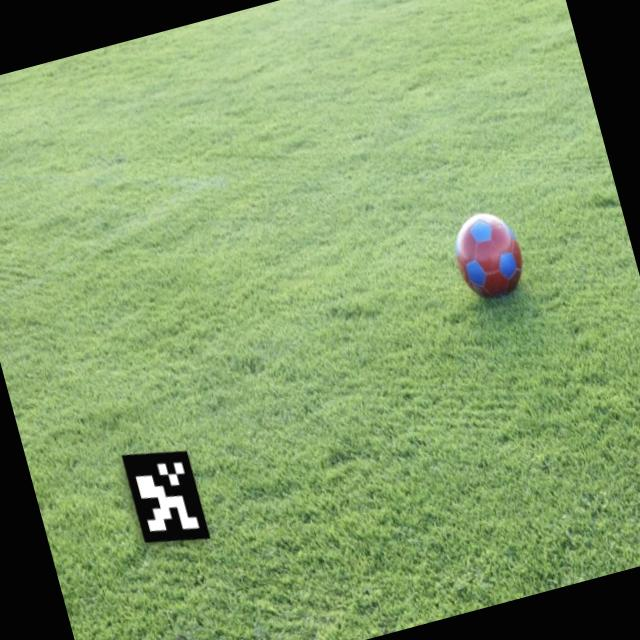marker: (108, 425, 222, 563)
